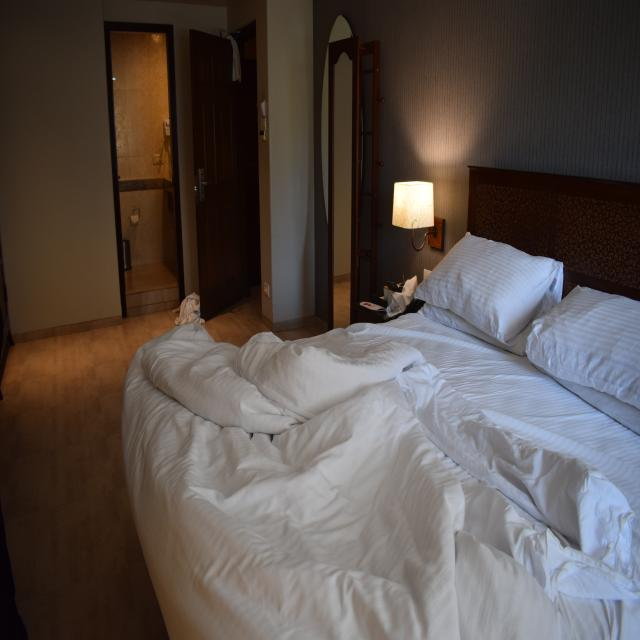mess: (129, 256, 640, 640), (145, 261, 214, 328), (372, 262, 416, 328)
